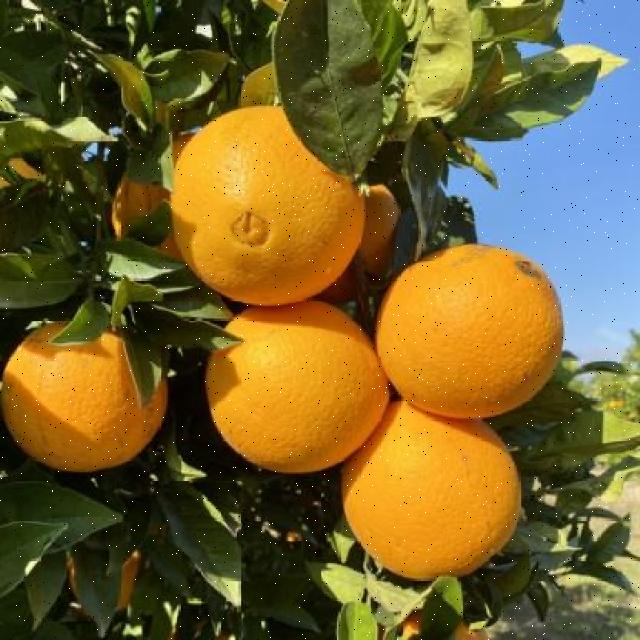Orange: (168, 103, 366, 305), (340, 397, 522, 580), (374, 242, 563, 418), (204, 298, 388, 474), (0, 316, 168, 472), (109, 128, 197, 260)
